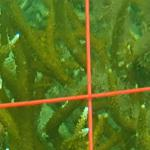alive: (13, 4, 148, 142)
